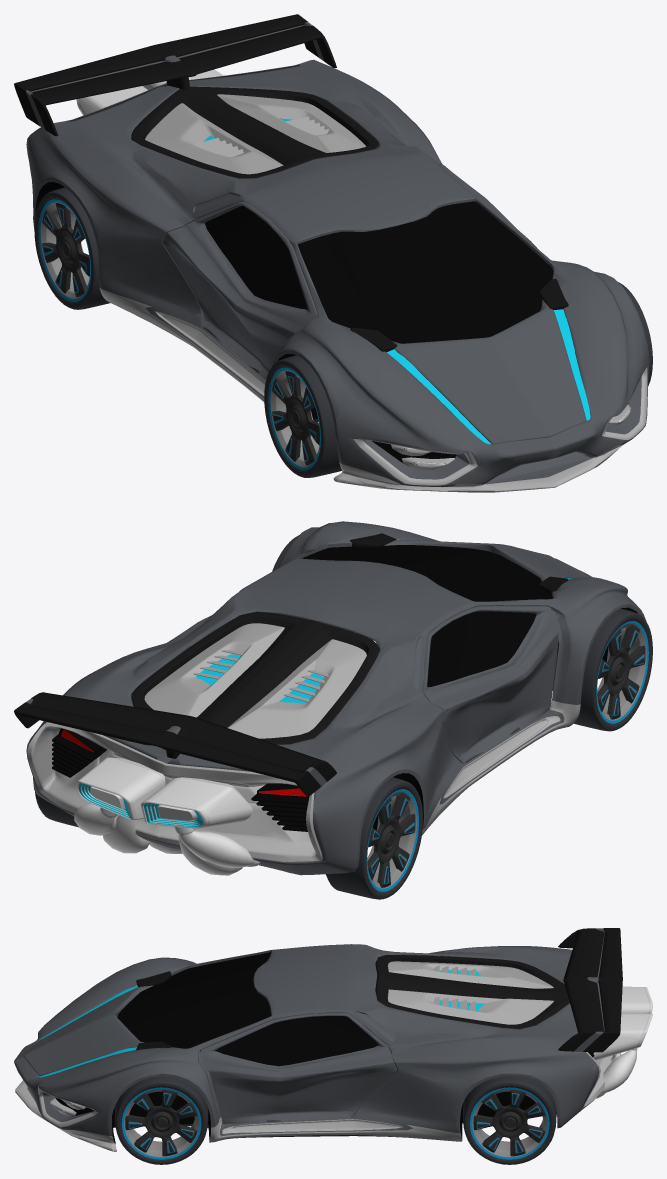
3 renders of one model, top to bottom at view 1: azimuth 30°, elevation 25°; view 2: azimuth 150°, elevation 25°; view 3: azimuth 270°, elevation 25°, orthographic. The views are drawn at different scales.
Parts seen in each view (by area): view 1: FC1, polySurface18, Wheel_FL, Wheel_RL, group7_pCube1, Cube.011, group3_grill; view 2: FC1, Cube.011, polySurface18, Wheel_FL, Wheel_RL, group3_grill, engineBurer, group7_pCube1, Wheel_RR; view 3: FC1, polySurface18, Wheel_RR, Wheel_FR, Cube.011, group7_pCube1, group3_grill.
Part boxes in pixels (bbox=[...]): FC1: bbox=[14, 14, 649, 492]; polySurface18: bbox=[205, 201, 553, 343]; Wheel_FL: bbox=[264, 355, 341, 477]; Wheel_RL: bbox=[34, 187, 109, 309]; group7_pCube1: bbox=[350, 279, 590, 444]; Cube.011: bbox=[76, 69, 223, 136]; group3_grill: bbox=[193, 116, 328, 156]; FC1: bbox=[14, 521, 646, 875]; Cube.011: bbox=[74, 757, 260, 875]; polySurface18: bbox=[302, 545, 552, 687]; Wheel_FL: bbox=[553, 608, 652, 731]; Wheel_RL: bbox=[326, 777, 422, 899]; group3_grill: bbox=[193, 650, 328, 702]; engineBurer: bbox=[196, 654, 322, 703]; group7_pCube1: bbox=[350, 533, 572, 594]; Wheel_RR: bbox=[35, 791, 78, 827]; FC1: bbox=[14, 928, 622, 1151]; polySurface18: bbox=[117, 952, 378, 1066]; Wheel_RR: bbox=[463, 1076, 556, 1164]; Wheel_FR: bbox=[115, 1076, 208, 1164]; Cube.011: bbox=[593, 986, 652, 1098]; group7_pCube1: bbox=[38, 971, 171, 1077]; group3_grill: bbox=[433, 965, 475, 1011].
Size of the model in its own units: 203 by 104 by 449.
